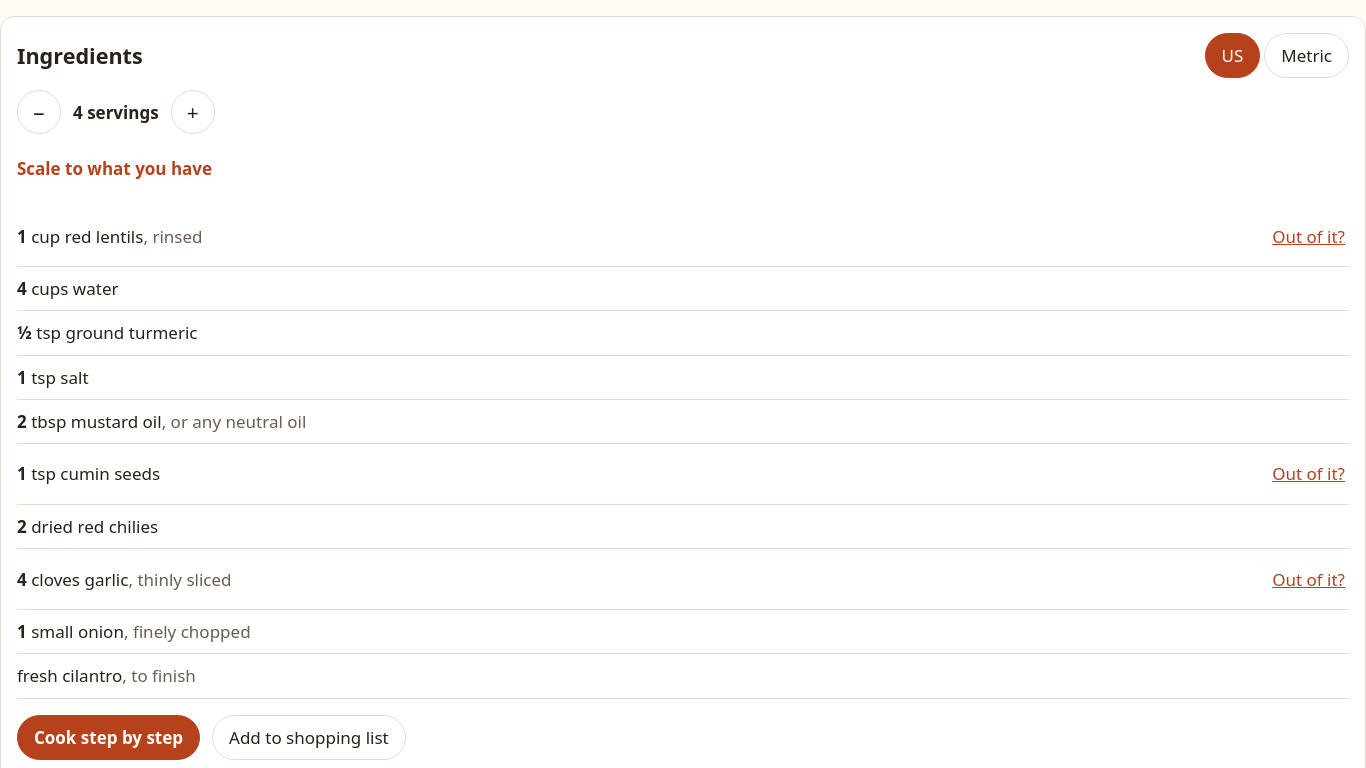
Test case: Sharing a scaled recipe › copies the link where there is no share sheet
Step 1. Click the button "Metric" → (1307, 56), box top-left (1264, 33), bottom-right (1349, 78)
(page scrolled)
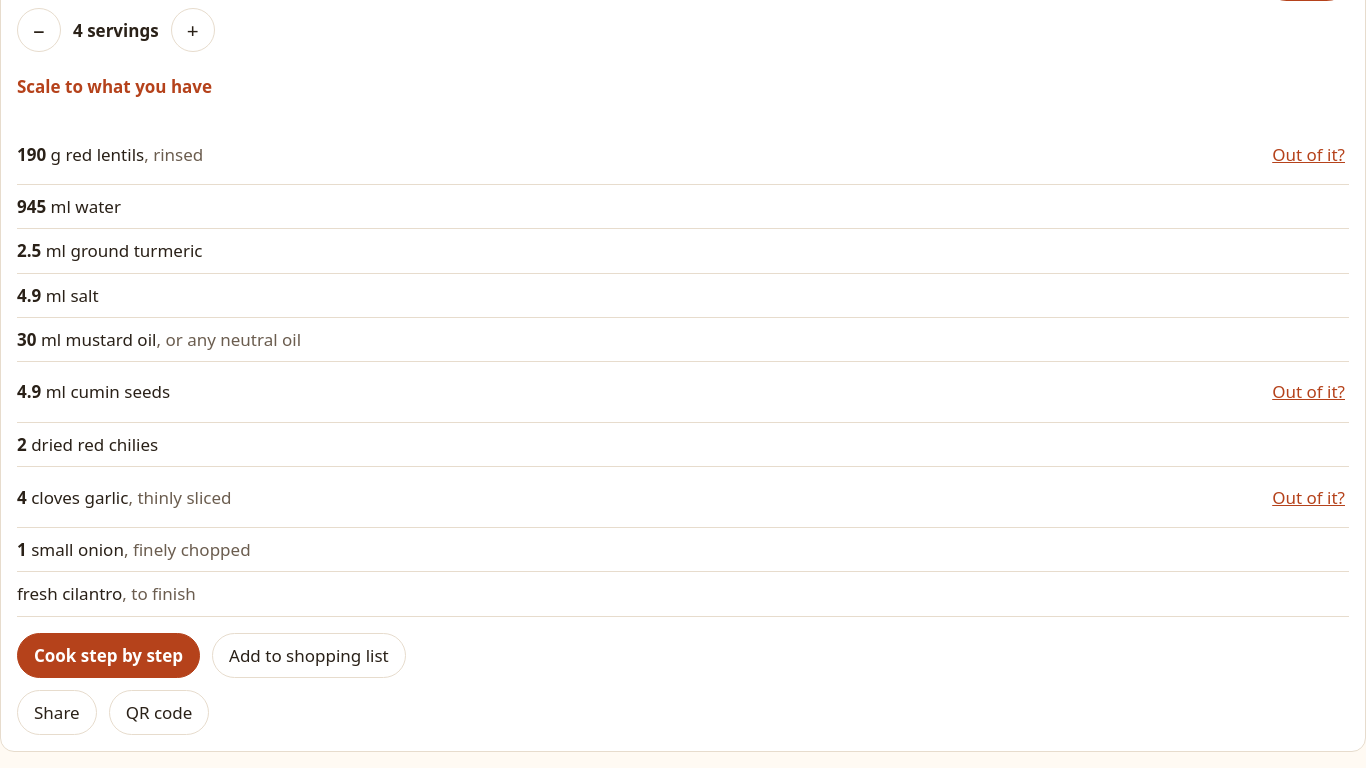
Step 2. Click the button "Share" → (57, 712), box top-left (17, 690), bottom-right (97, 735)
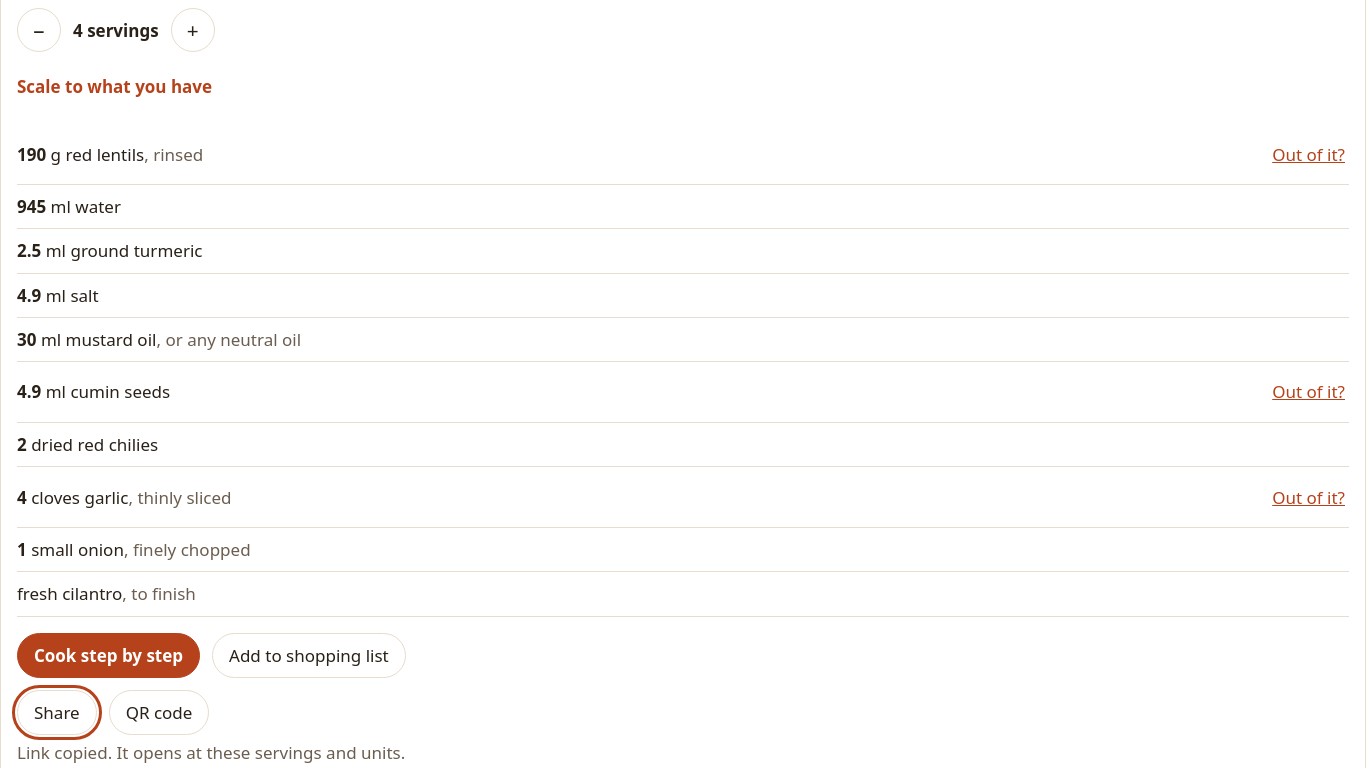
Now the text "Link copied. It opens at these servings and units." is shown, box top-left (17, 741), bottom-right (405, 764)
